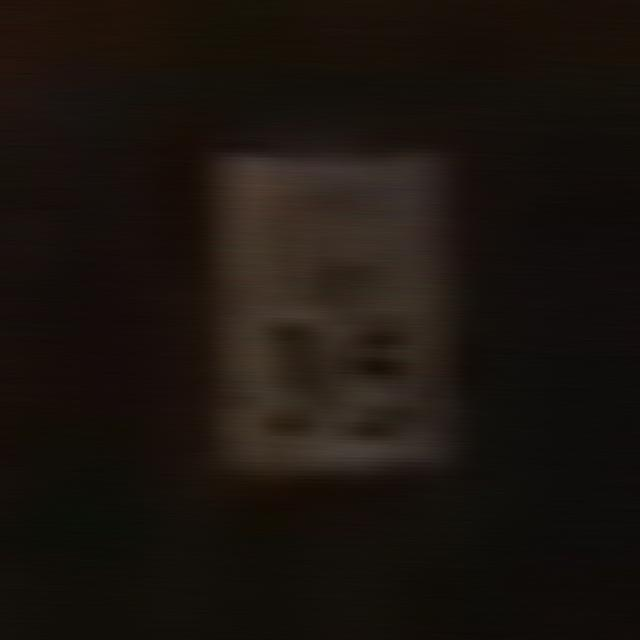speedLimit35: (220, 150, 455, 472)
